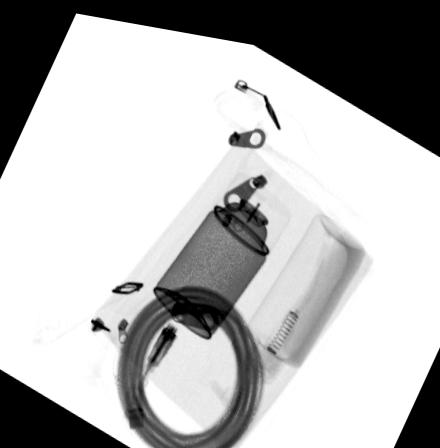Sprayer: (151, 159, 294, 334)
